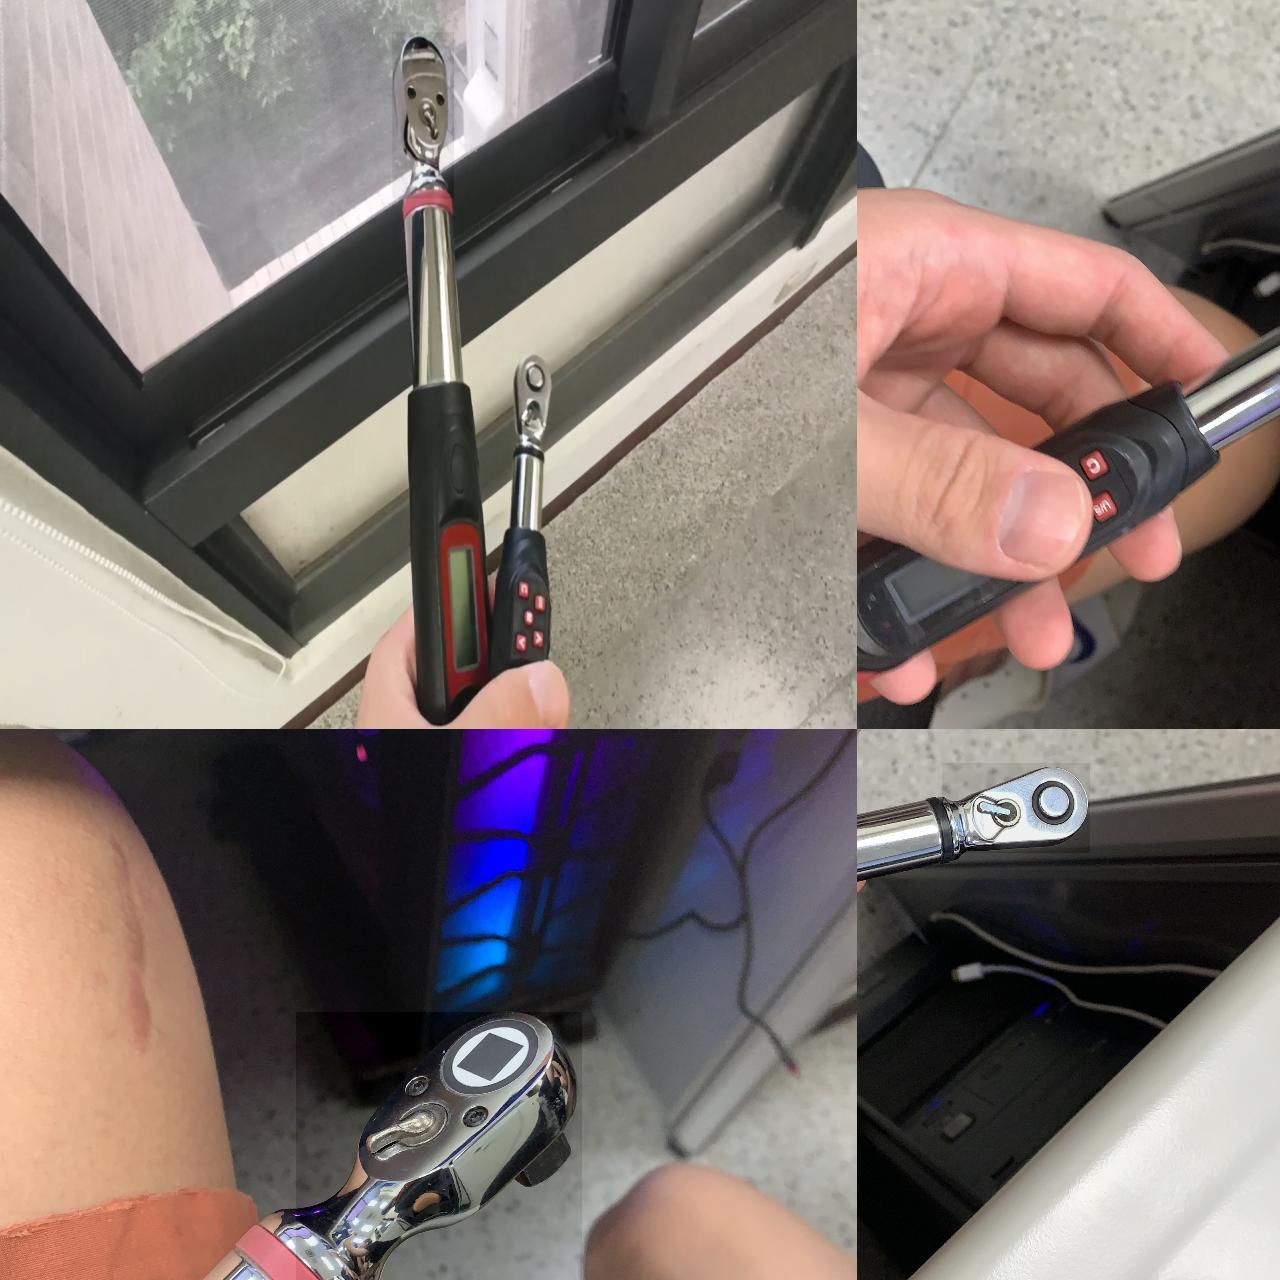Tool: (297, 1012, 583, 1280), (942, 763, 1090, 853), (392, 33, 454, 198), (511, 350, 551, 445)
